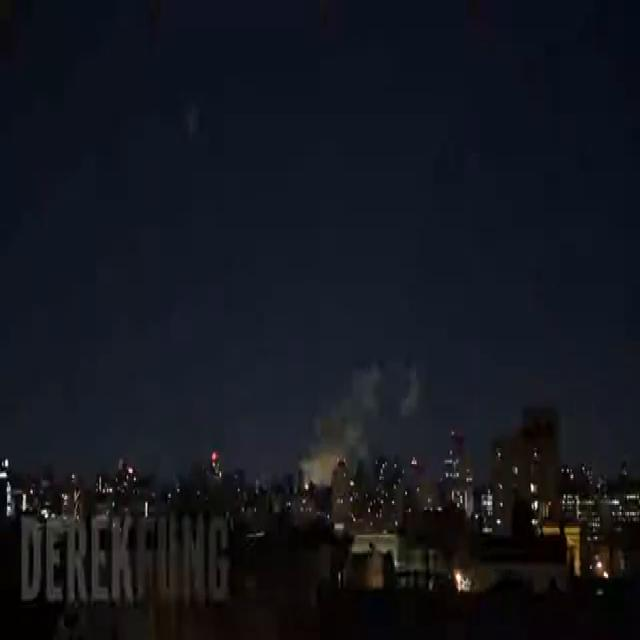smoke: (299, 366, 382, 484)
